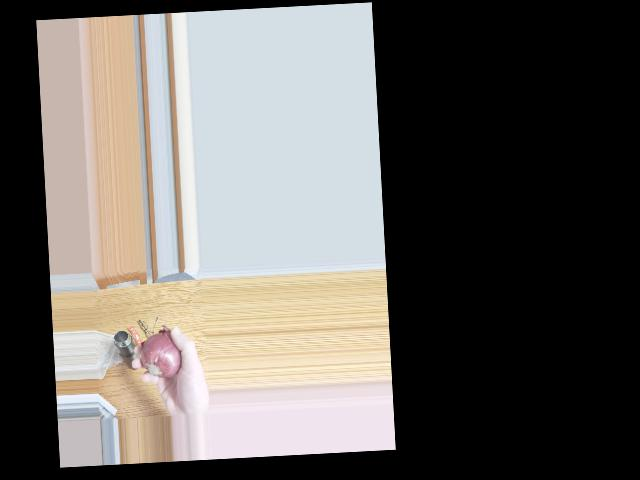onion: (142, 333, 177, 368)
